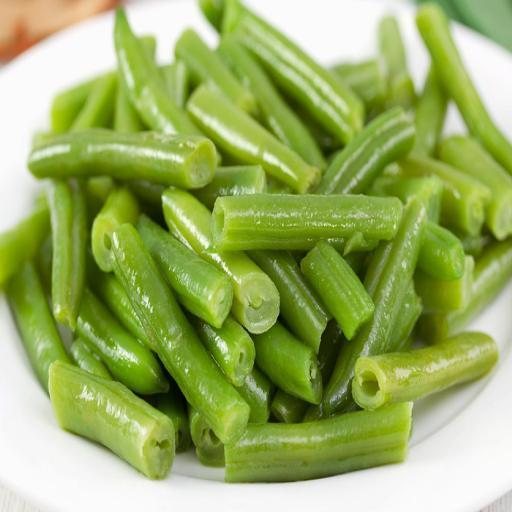buncis_rebus: (10, 20, 512, 487)
